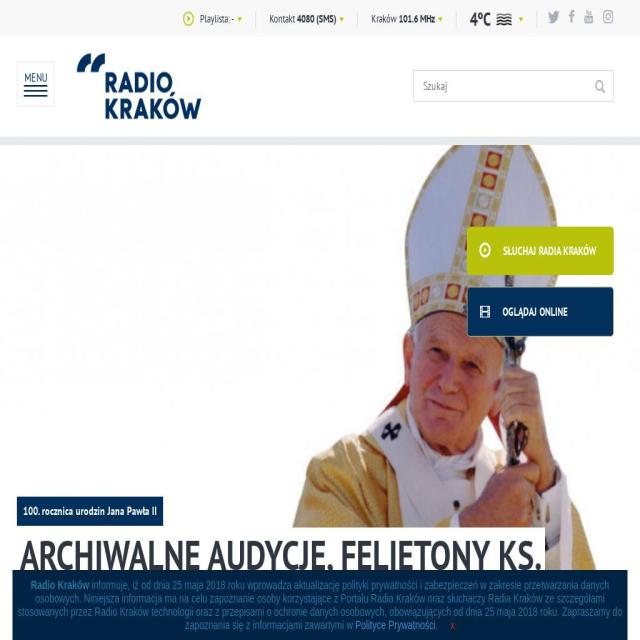button: (564, 0, 580, 37), (547, 0, 562, 37), (582, 0, 597, 37), (600, 0, 614, 37)
field: (412, 70, 614, 102)
heading: (23, 505, 157, 517)
image: (76, 53, 202, 119), (494, 4, 516, 34), (564, 10, 580, 23), (547, 10, 562, 23), (582, 10, 597, 23), (600, 10, 614, 23), (183, 12, 194, 26), (438, 18, 443, 22), (339, 18, 344, 22), (237, 18, 242, 22), (519, 18, 523, 22)
link: (355, 618, 436, 632)
text: (16, 527, 611, 640), (18, 578, 623, 632), (503, 243, 596, 259), (502, 304, 568, 320), (30, 578, 90, 592), (527, 0, 547, 37), (446, 0, 466, 37), (348, 0, 368, 37), (246, 0, 266, 37), (470, 7, 494, 31), (295, 12, 336, 26), (397, 12, 435, 26), (200, 12, 234, 26), (23, 70, 48, 85), (371, 12, 397, 26), (269, 12, 295, 26), (450, 618, 455, 632), (435, 618, 438, 632)
